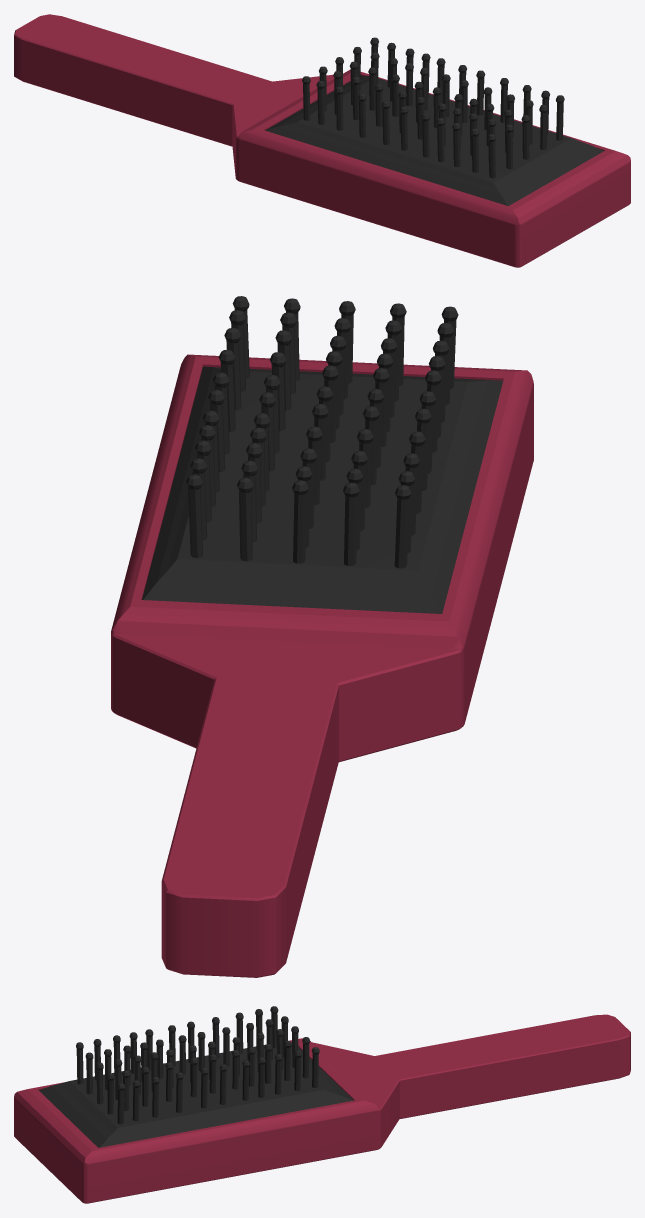
Rendered from HairBrush.fbx.
The picture shows the model from 3 angles, top to bottom: view 1: azimuth 30°, elevation 25°; view 2: azimuth 150°, elevation 25°; view 3: azimuth 270°, elevation 25°; orthographic projection. The views are drawn at different scales.
Visible parts, largest first — view 1: pCube141, pCube142; view 2: pCube141, pCube142, polySurface353, polySurface343, polySurface396, polySurface372, polySurface381; view 3: pCube141, pCube142, polySurface386, polySurface397, polySurface352.
Part boxes in pixels (box(x1,y1,x2,y2)): pCube141: box(14, 14, 630, 267); pCube142: box(265, 75, 603, 205); pCube141: box(111, 354, 533, 977); pCube142: box(142, 366, 502, 613); polySurface353: box(186, 474, 202, 558); polySurface343: box(237, 477, 253, 561); polySurface396: box(394, 485, 411, 568); polySurface372: box(292, 480, 308, 563); polySurface381: box(343, 482, 359, 565); pCube141: box(14, 1014, 630, 1203); pCube142: box(38, 1042, 353, 1147); polySurface386: box(85, 1052, 93, 1094); polySurface397: box(76, 1042, 83, 1084); polySurface352: box(107, 1073, 114, 1114).
Bounding box in the file's own units: 15.23 × 4.63 × 26.44.
